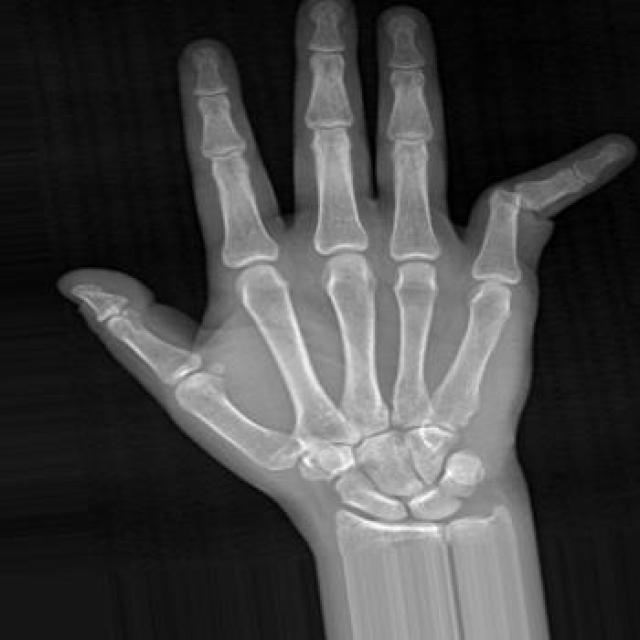Fracture: (484, 176, 558, 224)
